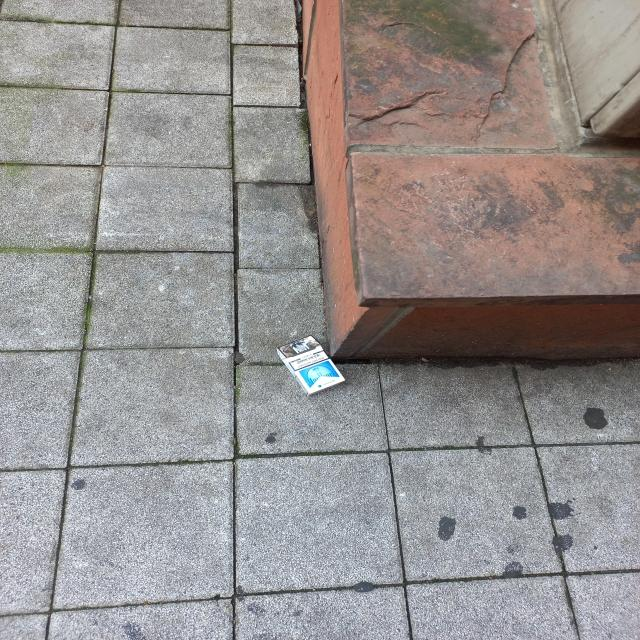litter: (278, 335, 345, 394)
